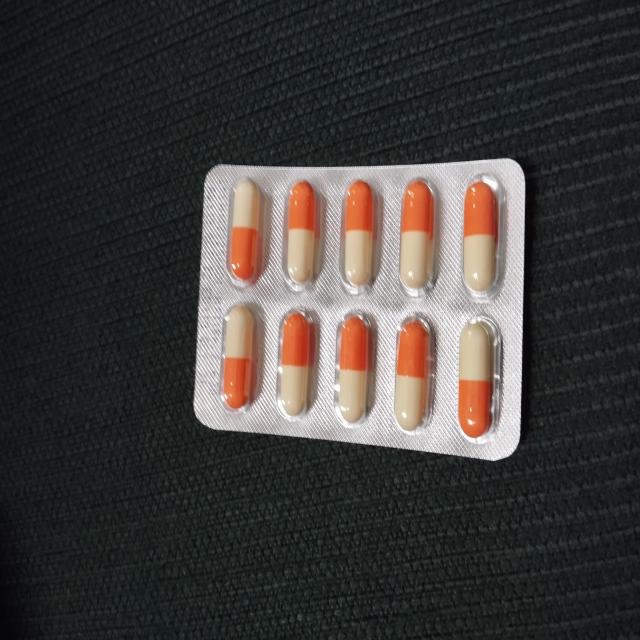B3: (195, 152, 526, 465)
